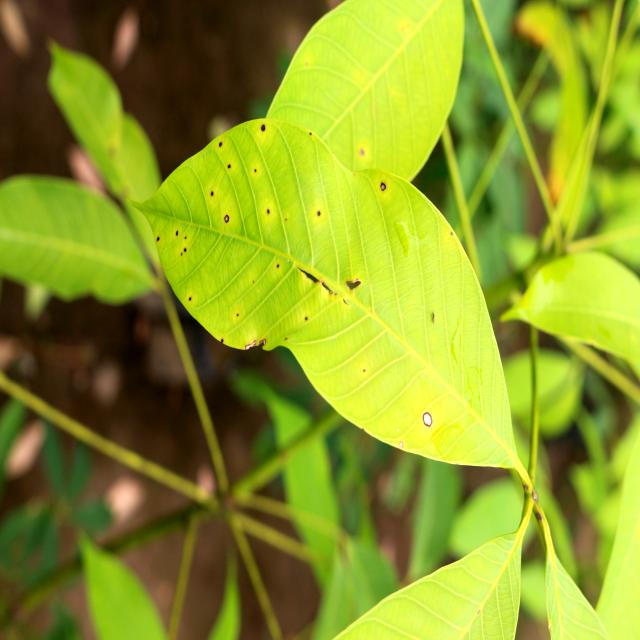Colletotrichum: (423, 412, 432, 426), (381, 182, 386, 192), (224, 215, 230, 223), (399, 441, 403, 448), (261, 125, 265, 132), (228, 164, 231, 169), (318, 211, 320, 216)
